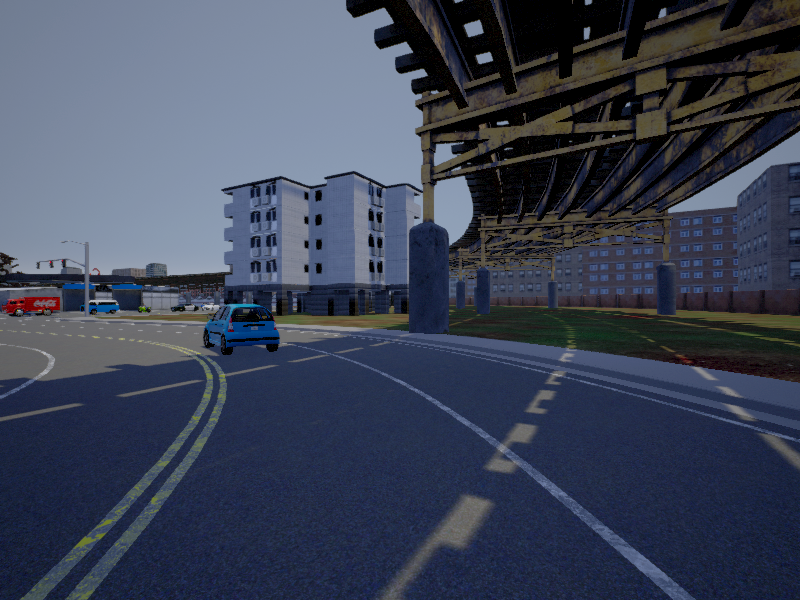Benign: (204, 303, 281, 355), (5, 298, 62, 315), (82, 301, 119, 313), (170, 303, 201, 313)
